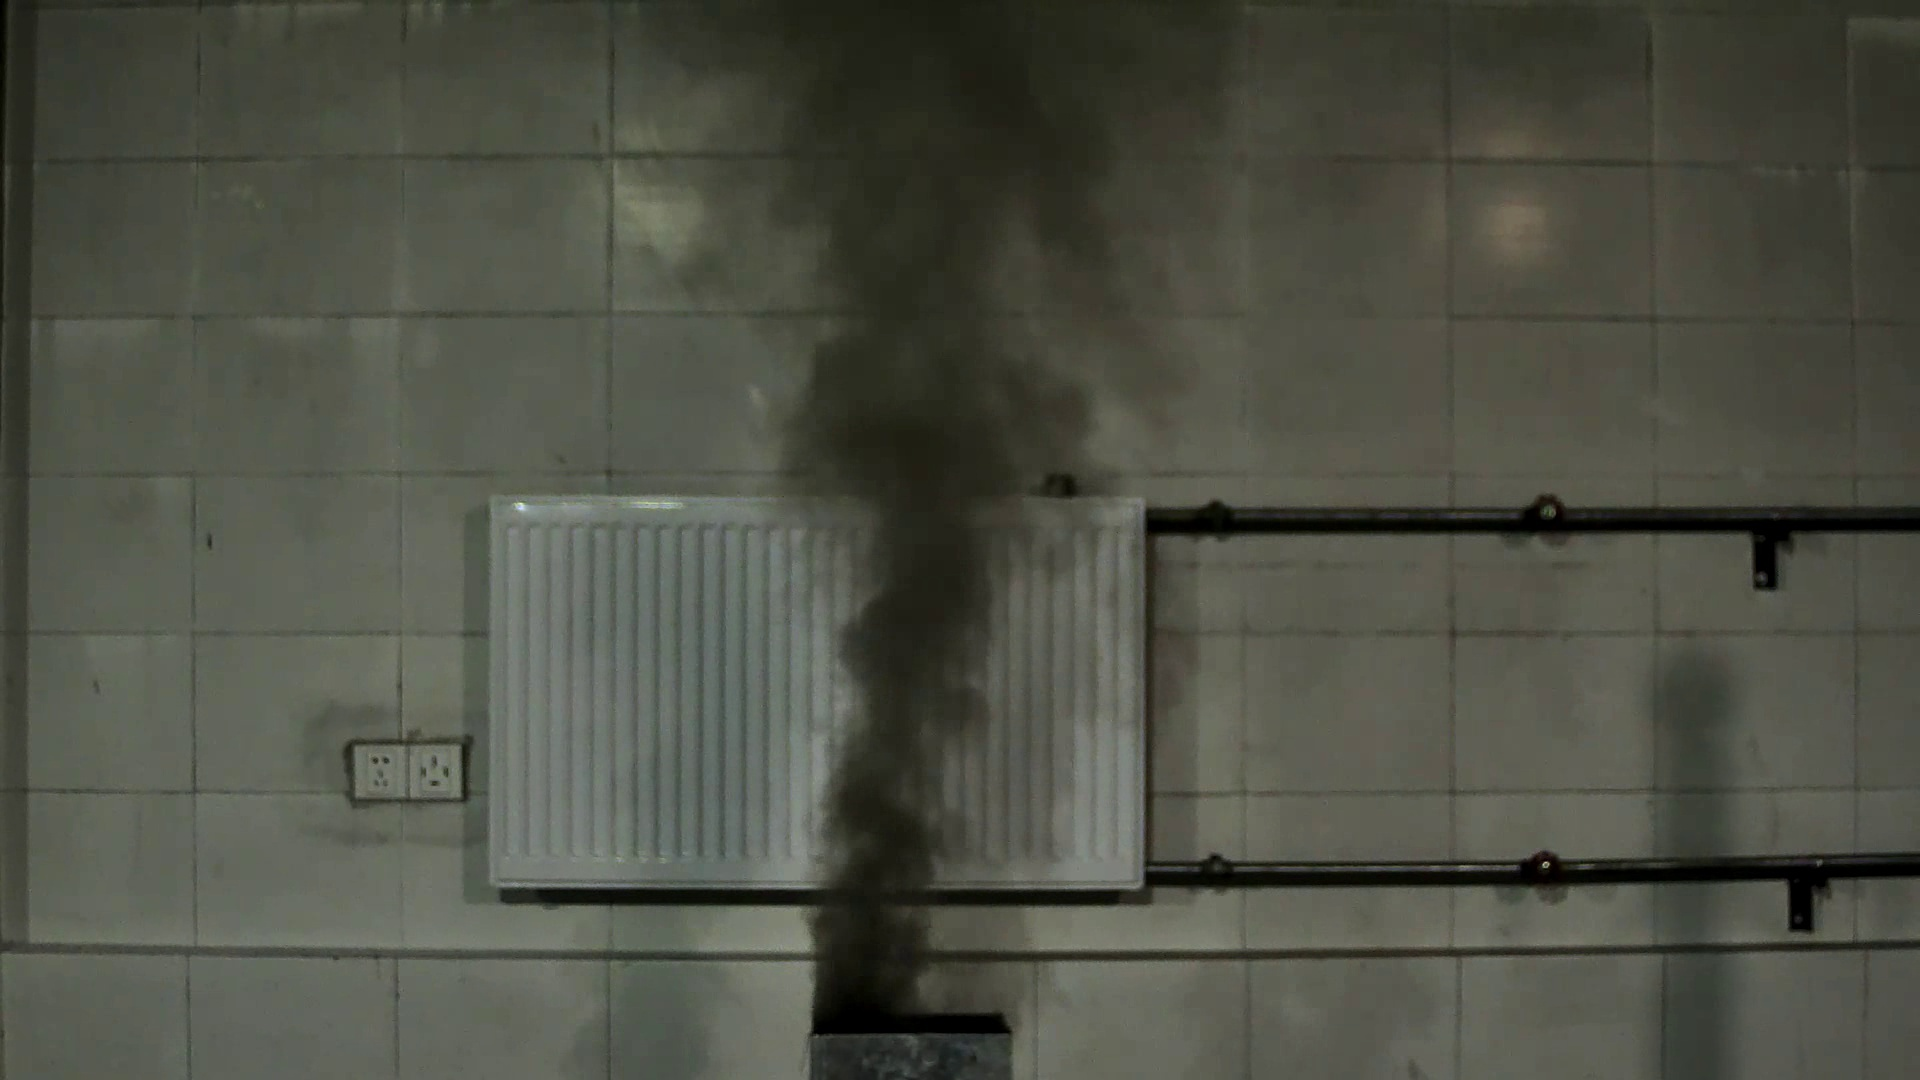smoke: (647, 22, 1158, 1001)
